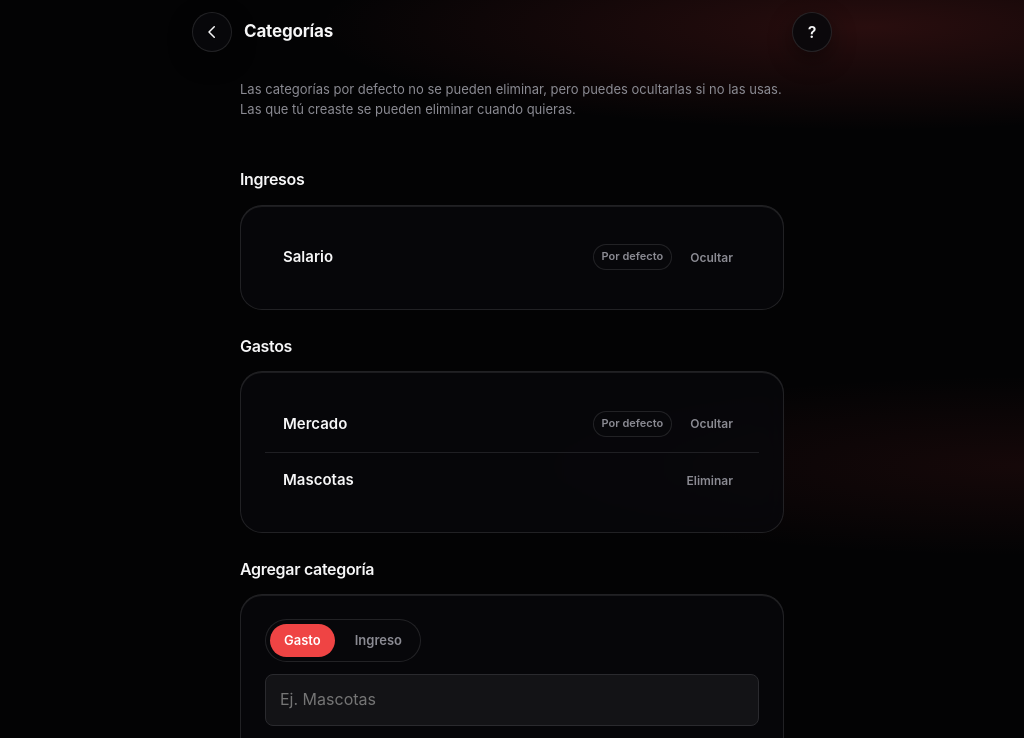
CategoriesMain › ocultar una categoria por defecto la marca como oculta en el lugar
This screenshot has width=1024, height=738.
Click the button with class "category-action" in the row of "Mercado": (712, 424) top-left (682, 410), bottom-right (741, 438)
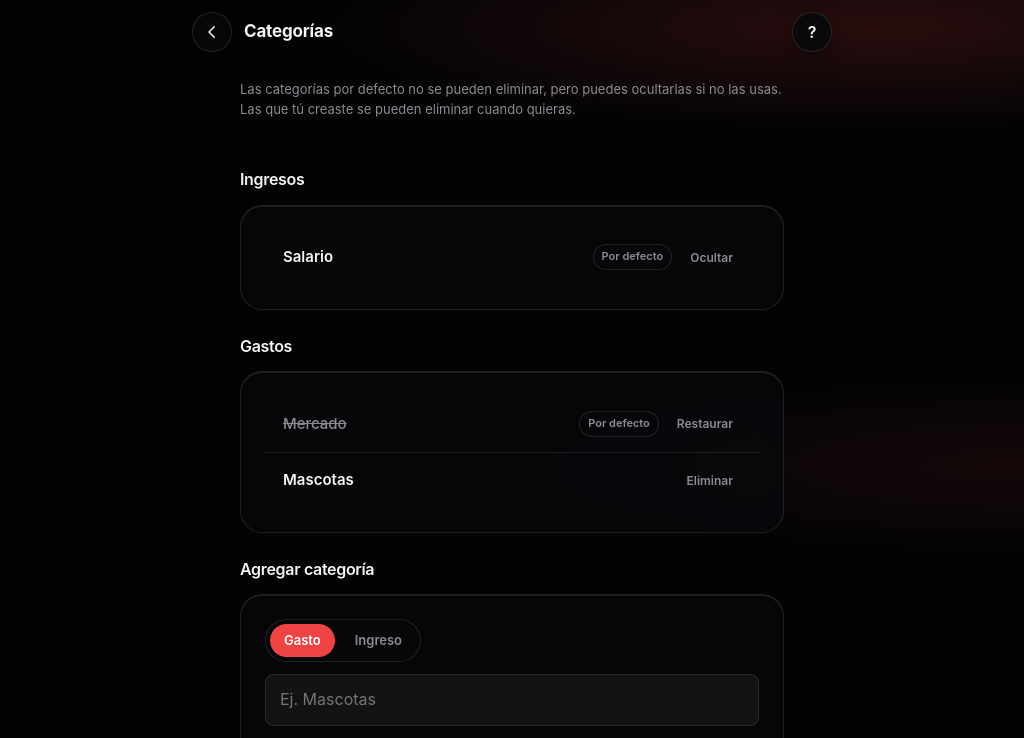
Expected: the text with class "hidden" reads "Mercado", top-left (283, 414), bottom-right (347, 433)
Expected: the text "Restaurar" is shown, top-left (669, 410), bottom-right (741, 438)
